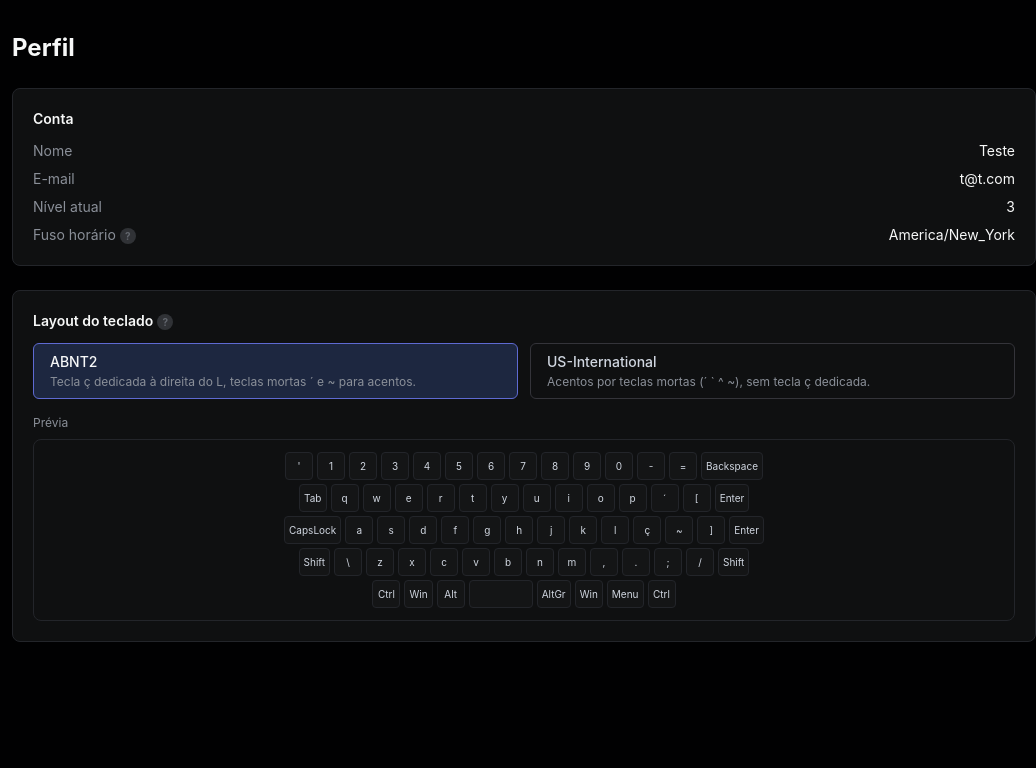
Test: ProfilePage (UI-UX-SRD §6.7) › exibe mensagem de erro quando a troca de layout falha
This screenshot has width=1036, height=768.
Click the button "US-International": {"x": 772, "y": 371} x1=530 y1=343 x2=1015 y2=399
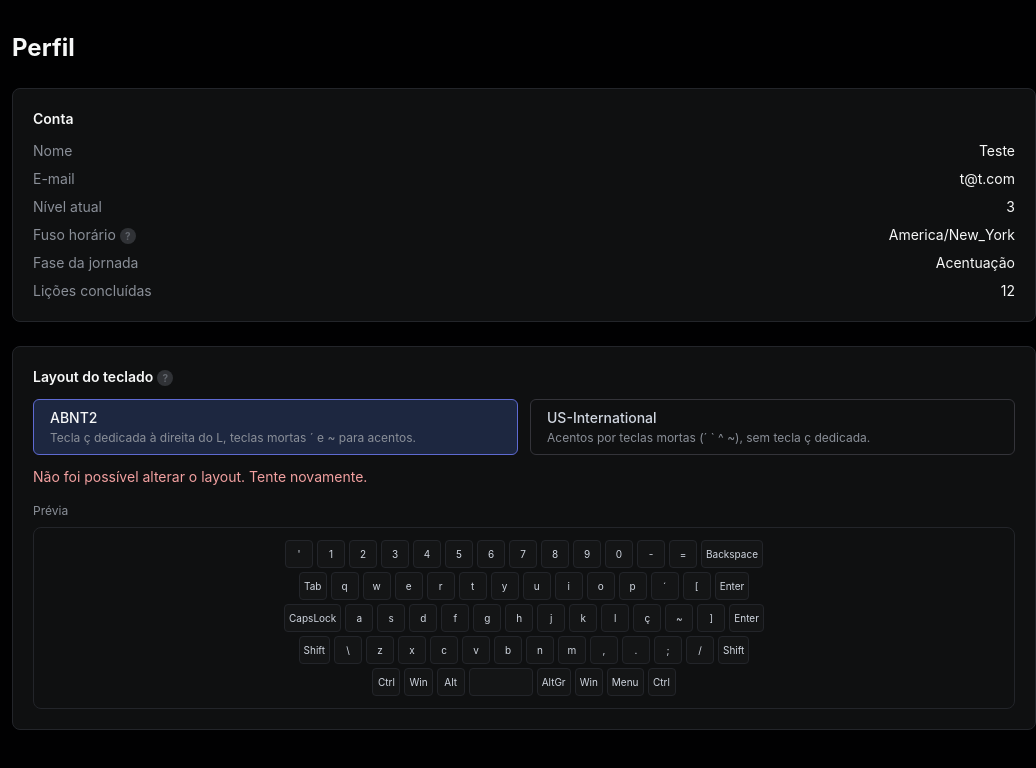
Now the text "Não foi possível alterar o layout. Tente novamente." is shown, box x1=33 y1=468 x2=367 y2=485
